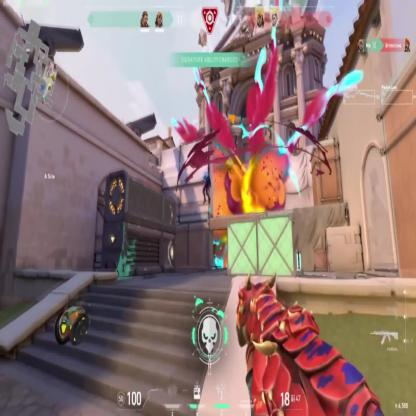enemy: (202, 171, 212, 204)
enemy_head: (204, 171, 208, 179)
